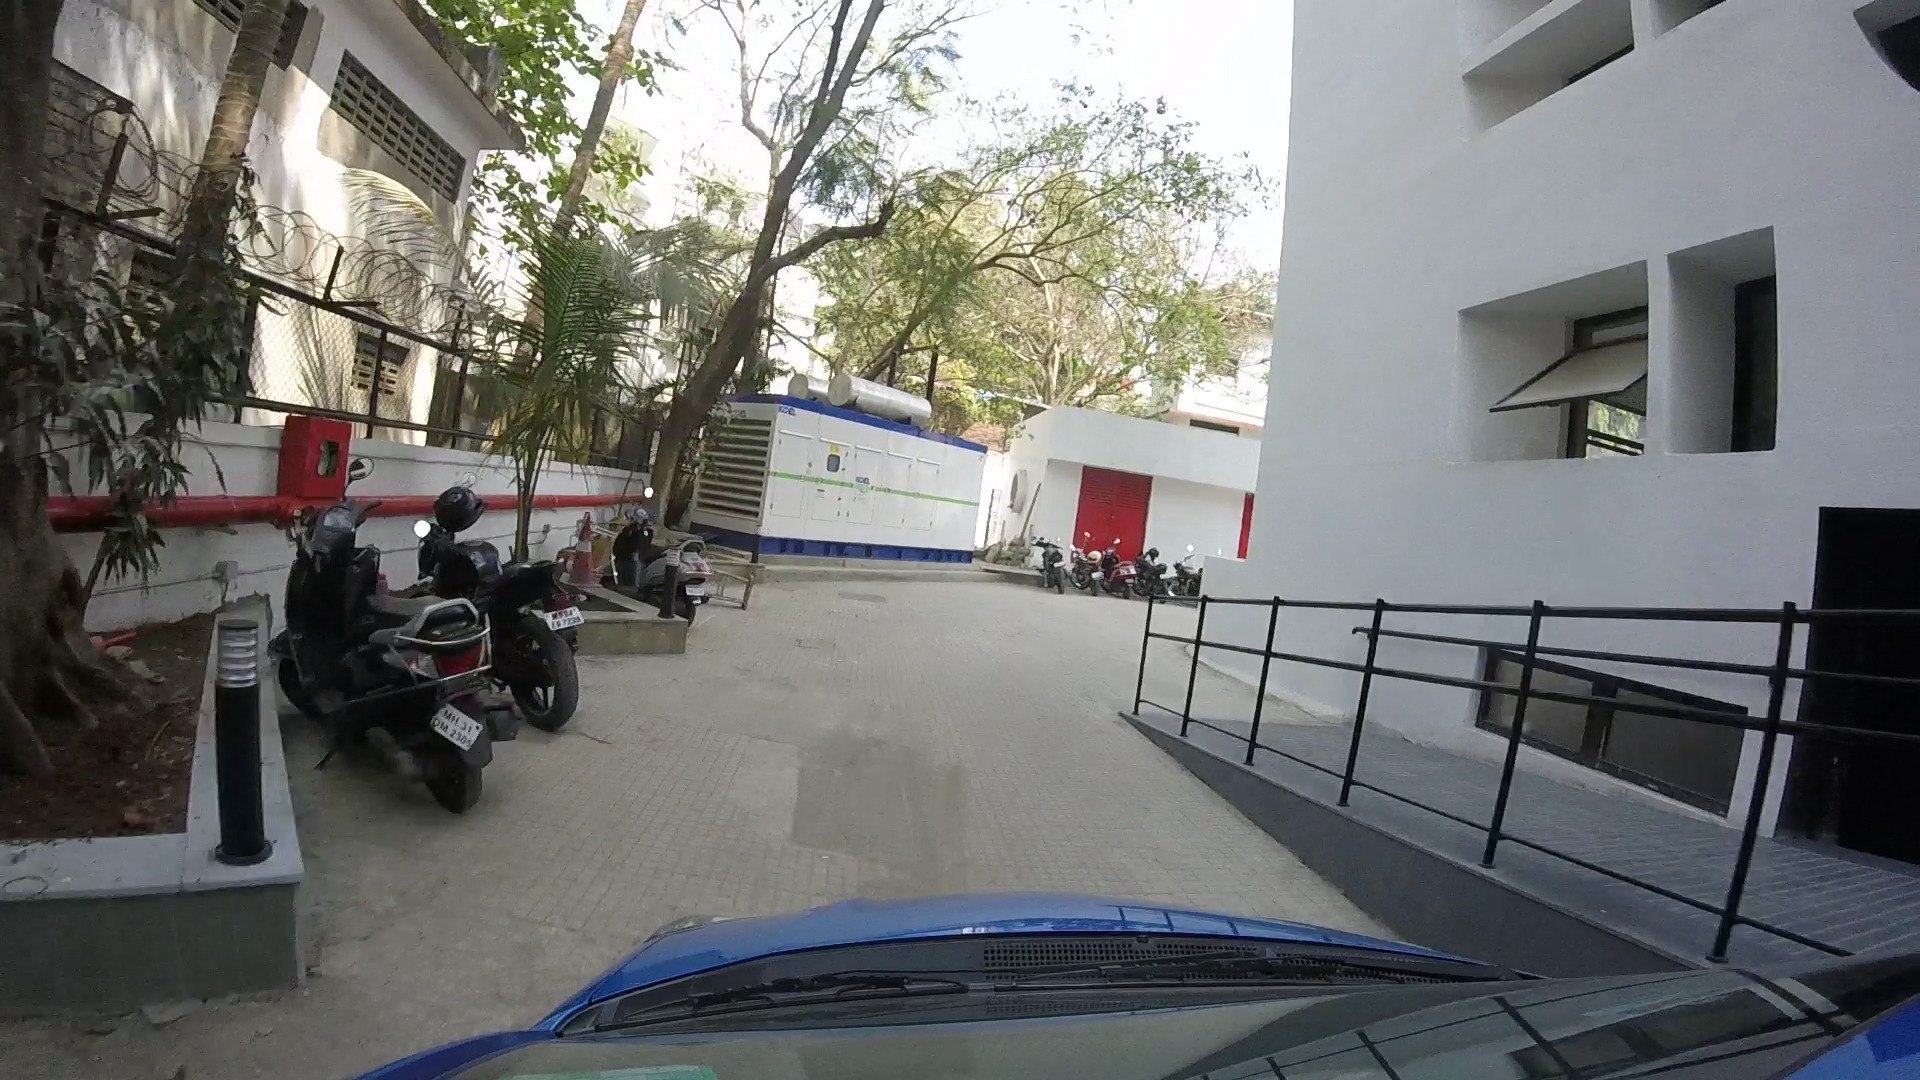bike/scooter: (266, 442, 505, 816), (413, 465, 584, 724), (599, 489, 719, 618)
